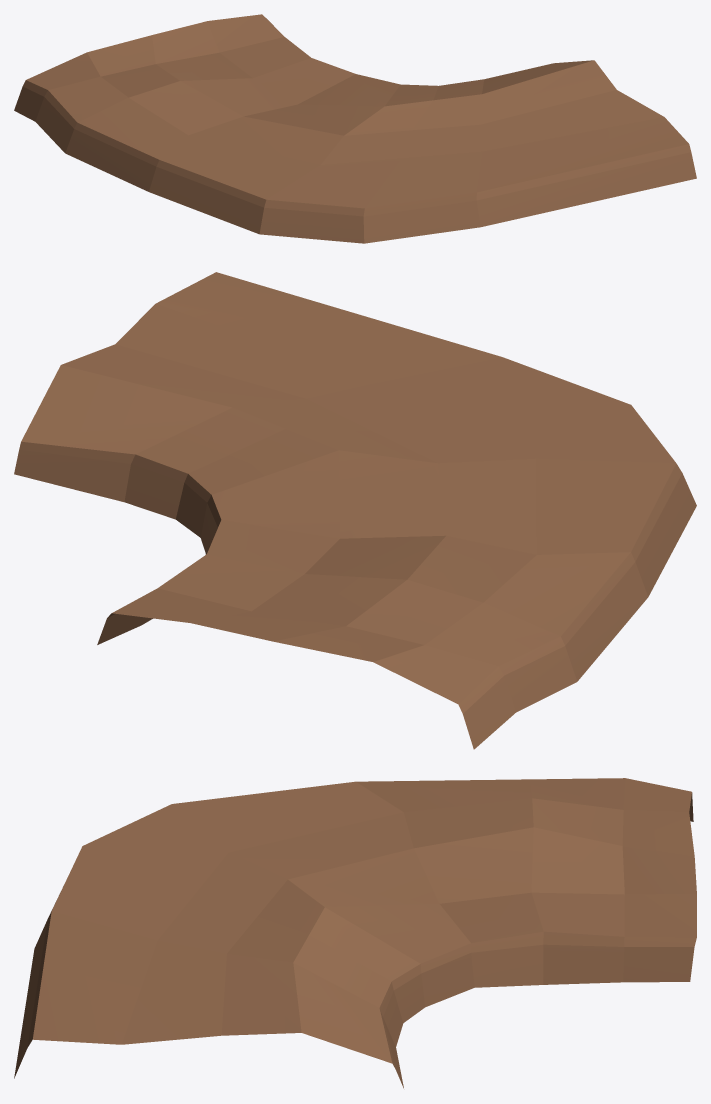
File: RoadTile_13.fbx
3 views of the same model, one above another, from view 1: azimuth 30°, elevation 25°; view 2: azimuth 150°, elevation 25°; view 3: azimuth 270°, elevation 25° (orthographic). The views are drawn at different scales.
Visible parts, largest first — view 1: RoadTile_13; view 2: RoadTile_13; view 3: RoadTile_13.
Part boxes in pixels (<box>): RoadTile_13: <box>14,14,696,243</box>; RoadTile_13: <box>14,272,696,749</box>; RoadTile_13: <box>14,778,696,1088</box>.
Size of the model in its own units: 747 by 84.4 by 746.
